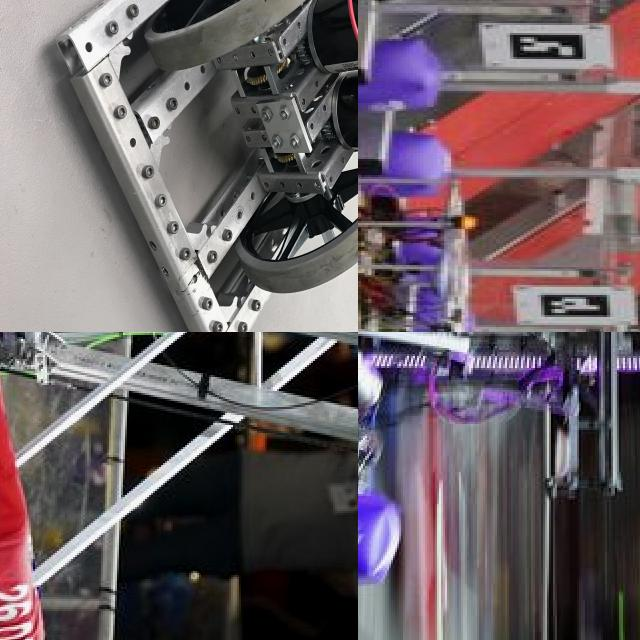FRC-Robots: (0, 332, 358, 640), (53, 0, 358, 332), (358, 332, 640, 614), (358, 107, 489, 332)
